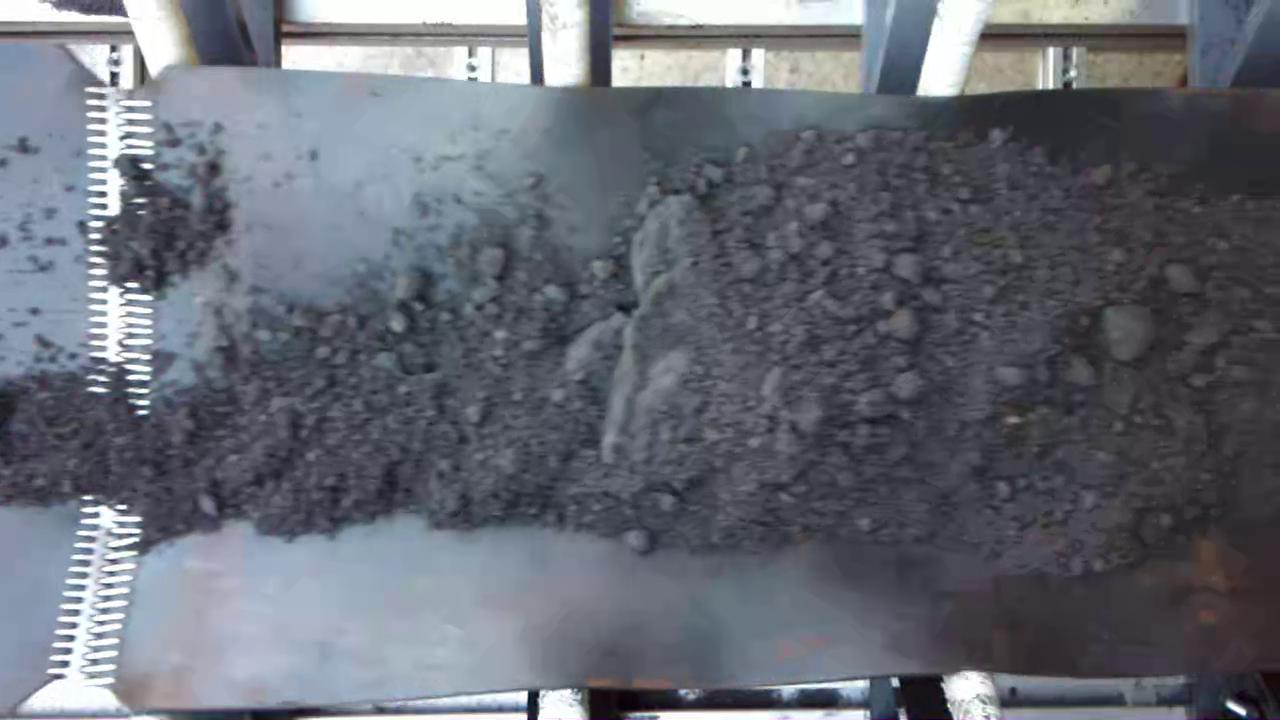conveyor: (6, 97, 1280, 667)
